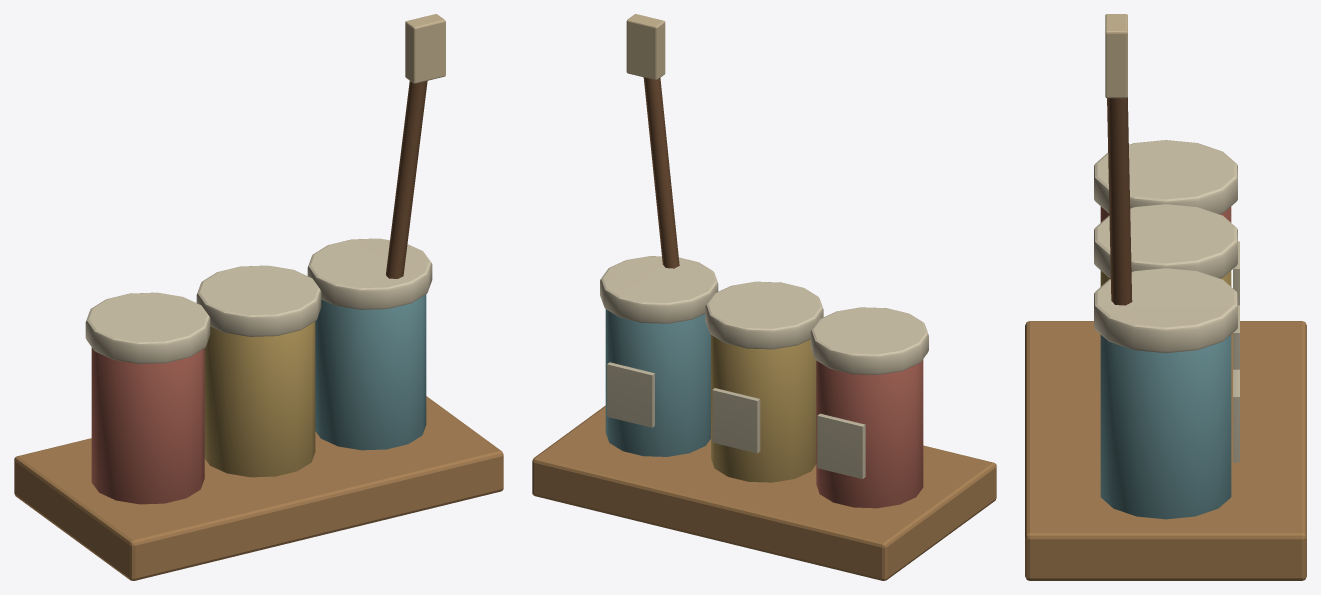
File: paint.glb
3 renders of one model, left to right at view 1: azimuth 30°, elevation 25°; view 2: azimuth 150°, elevation 25°; view 3: azimuth 270°, elevation 25°, orthographic. The views are drawn at different scales.
Bounding box in the file's own units: 0.29 × 0.336 × 0.16.
